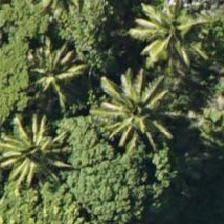coconut_tree: (80, 67, 170, 157), (0, 24, 88, 114), (135, 0, 223, 69), (0, 100, 66, 190)
